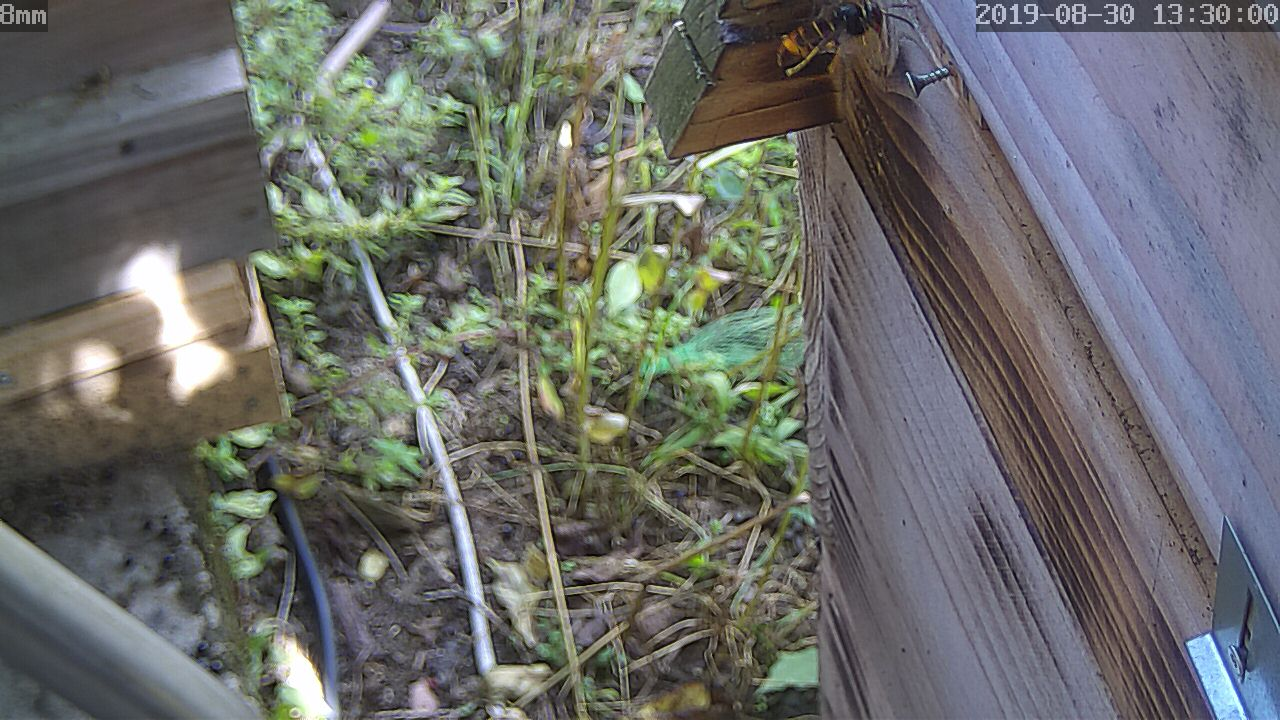hornet: (769, 1, 904, 67)
